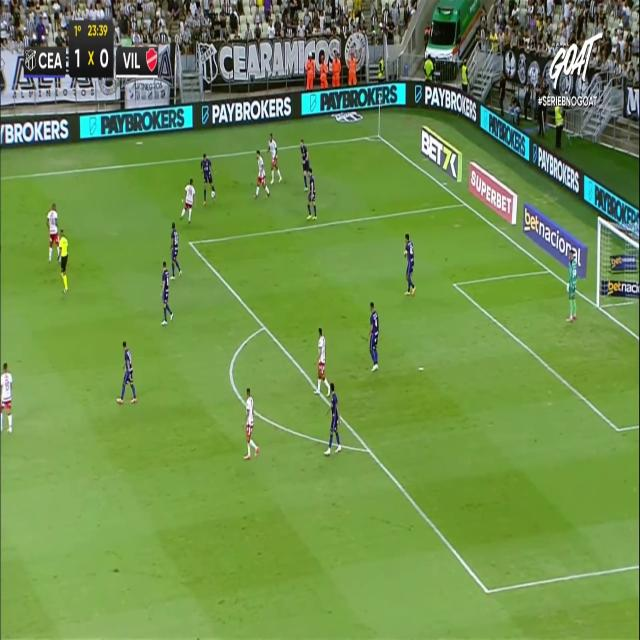ball: (211, 191, 216, 199)
goalkeeper: (566, 249, 578, 320)
player: (117, 340, 137, 403), (324, 382, 340, 454), (313, 326, 329, 395), (244, 387, 259, 459), (0, 362, 12, 433), (367, 300, 379, 371), (161, 261, 174, 325), (46, 202, 59, 263), (254, 148, 270, 197), (200, 152, 215, 204), (170, 221, 183, 280), (268, 134, 283, 184), (403, 232, 415, 294), (180, 177, 195, 222), (299, 138, 312, 187), (307, 167, 318, 222)
referee: (58, 227, 69, 292)
